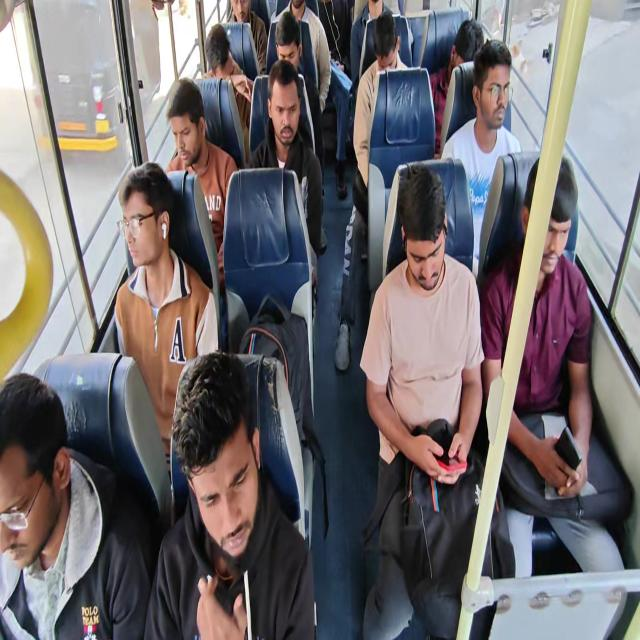person: (0, 370, 144, 628), (169, 355, 294, 620), (83, 176, 193, 324), (147, 58, 229, 176), (512, 158, 582, 271), (388, 199, 452, 304), (477, 62, 521, 164), (259, 64, 310, 141), (205, 18, 254, 94), (266, 18, 318, 72), (449, 17, 491, 82), (370, 13, 404, 83), (364, 0, 403, 34), (224, 0, 261, 27), (280, 0, 320, 20)
